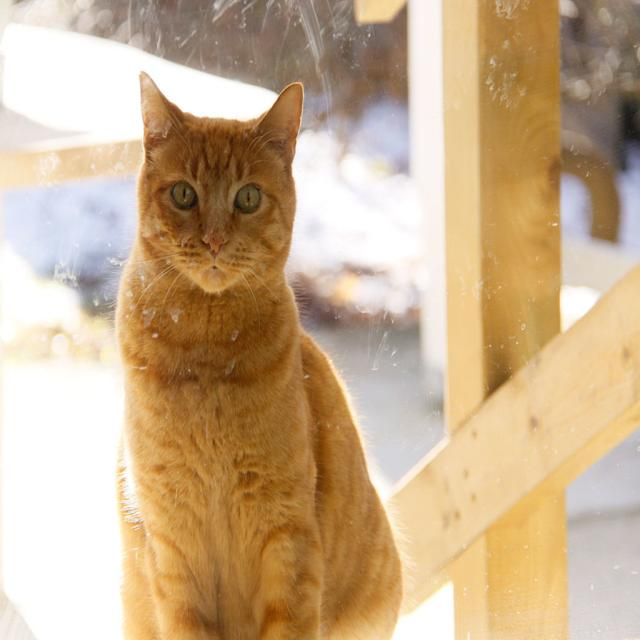Cat: (94, 70, 420, 639)
